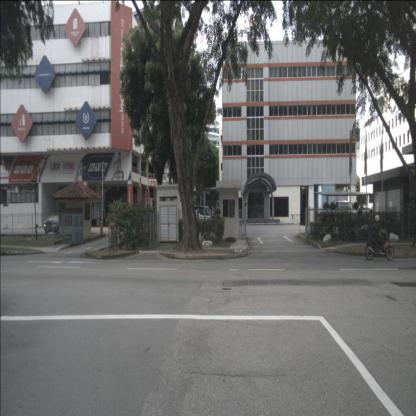human-pedestrian-adult: (368, 208, 374, 245)
vehicle-car: (182, 206, 212, 229), (43, 215, 68, 234)
vehicle-motorcycle: (361, 214, 395, 260)
vehicle-truck: (328, 200, 350, 222)
